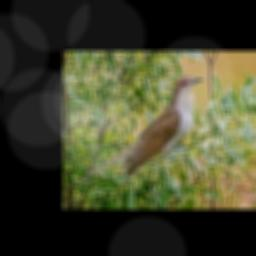Cuckoo: (68, 76, 205, 188)
